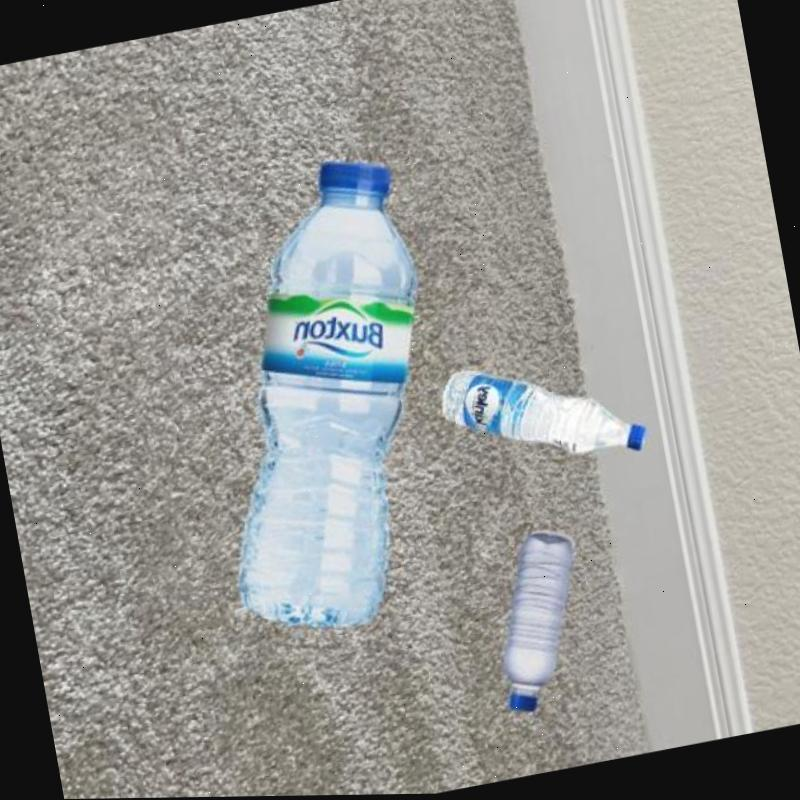botella: (172, 151, 475, 648), (434, 337, 650, 486), (481, 523, 602, 716)
